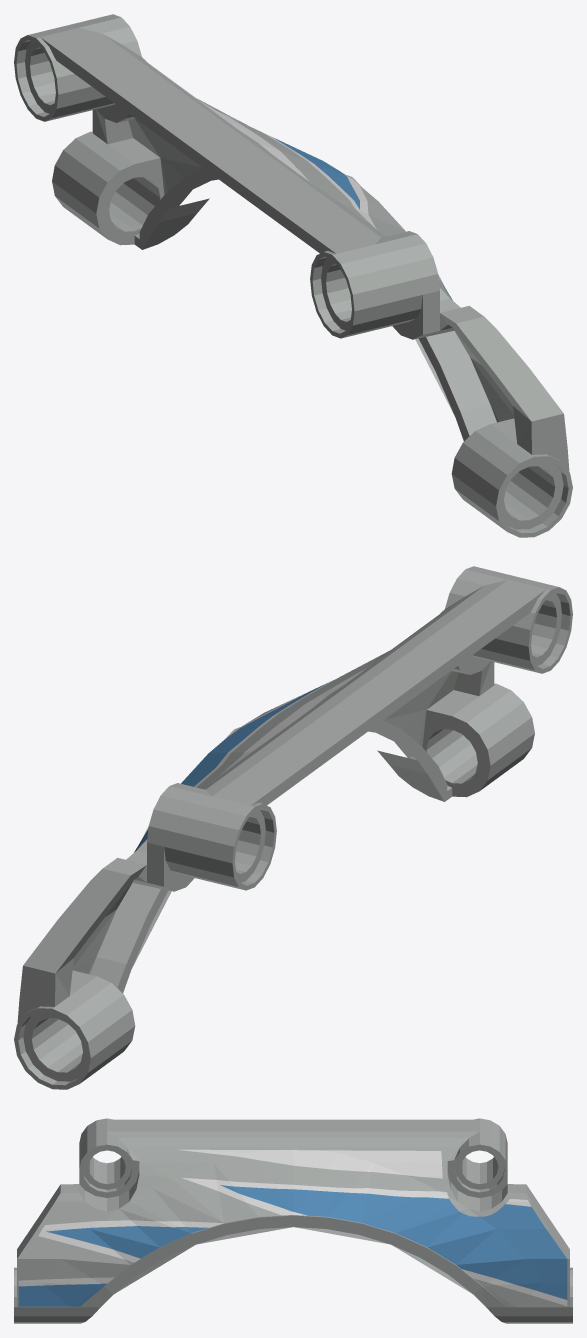
3 views of the same model, one above another, from view 1: azimuth 30°, elevation 25°; view 2: azimuth 150°, elevation 25°; view 3: azimuth 270°, elevation 25° (orthographic). The views are drawn at different scales.
Visible parts, largest first — view 1: world; view 2: world; view 3: world.
Boxes of the visible parts, <box> form: world: <box>14,14,572,537</box>; world: <box>14,566,572,1089</box>; world: <box>14,1118,572,1323</box>.
Bounding box in the file's own units: 0.0158 × 0.0232 × 0.072.
